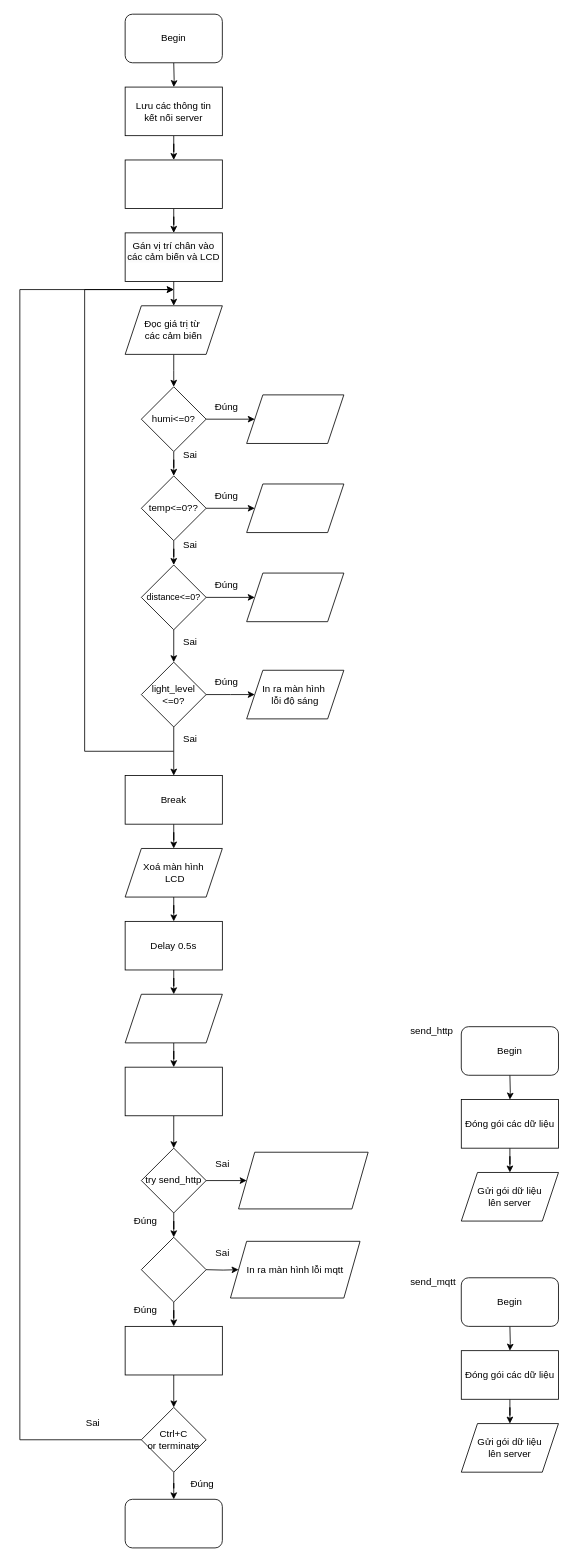
The diagram is 573 pixels wide and 1562 high, and some of its shapes have lost their labels. Here are the shapes that lost their labels. From the top down, the centre of each, then its label:
pixel 173 184: Kết nối tới server thông qua MQTT
pixel 295 418: In ra màn hình lỗi độ ẩm
pixel 295 508: In ra màn hình lỗi nhiệt độ
pixel 295 597: In ra màn hình lỗi khoảng cách
pixel 173 1018: In ra màn hình LCD nhiệt độ, độ ẩm, khoảng cách độ sáng
pixel 173 1091: Lưu các giá trị cảm biến vào dictionary
pixel 303 1180: In ra màn hình lỗi http
pixel 173 1269: try send_mqtt
pixel 173 1350: Delay 20s
pixel 173 1523: End
